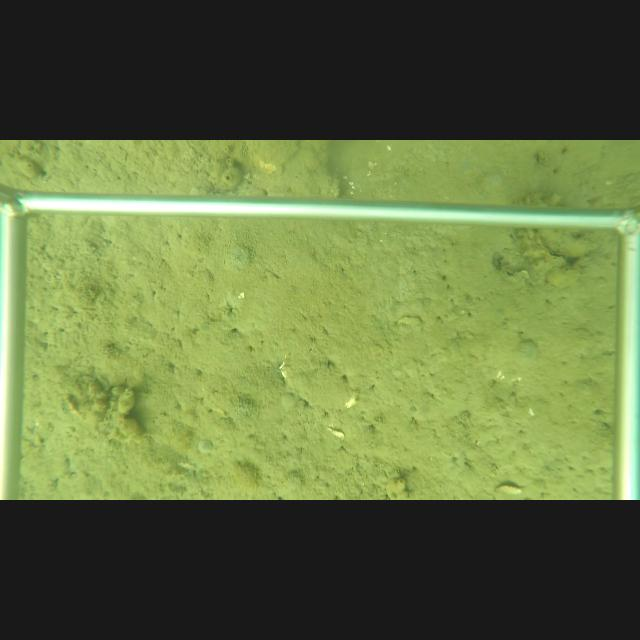Oyster-Open: (532, 240, 571, 266)
